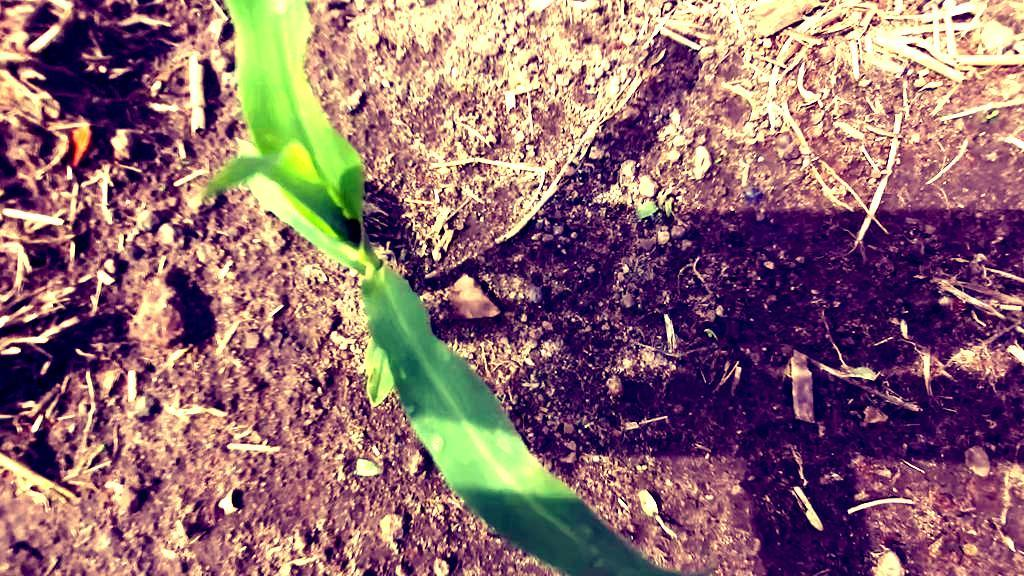BroWeed: (632, 487, 678, 544), (71, 434, 108, 474), (214, 482, 252, 519), (271, 551, 312, 576), (345, 456, 385, 480), (841, 359, 879, 382), (71, 126, 91, 168), (890, 312, 916, 340), (633, 200, 661, 224), (861, 405, 890, 428), (167, 342, 195, 364), (950, 250, 988, 266), (959, 539, 980, 561), (93, 268, 116, 288), (426, 493, 447, 514), (702, 324, 723, 344), (661, 194, 675, 218), (293, 530, 305, 557), (984, 105, 1001, 123), (852, 488, 869, 503), (456, 77, 471, 94), (656, 188, 667, 210), (336, 462, 347, 482), (783, 360, 793, 379), (710, 155, 724, 167), (634, 463, 649, 472)
